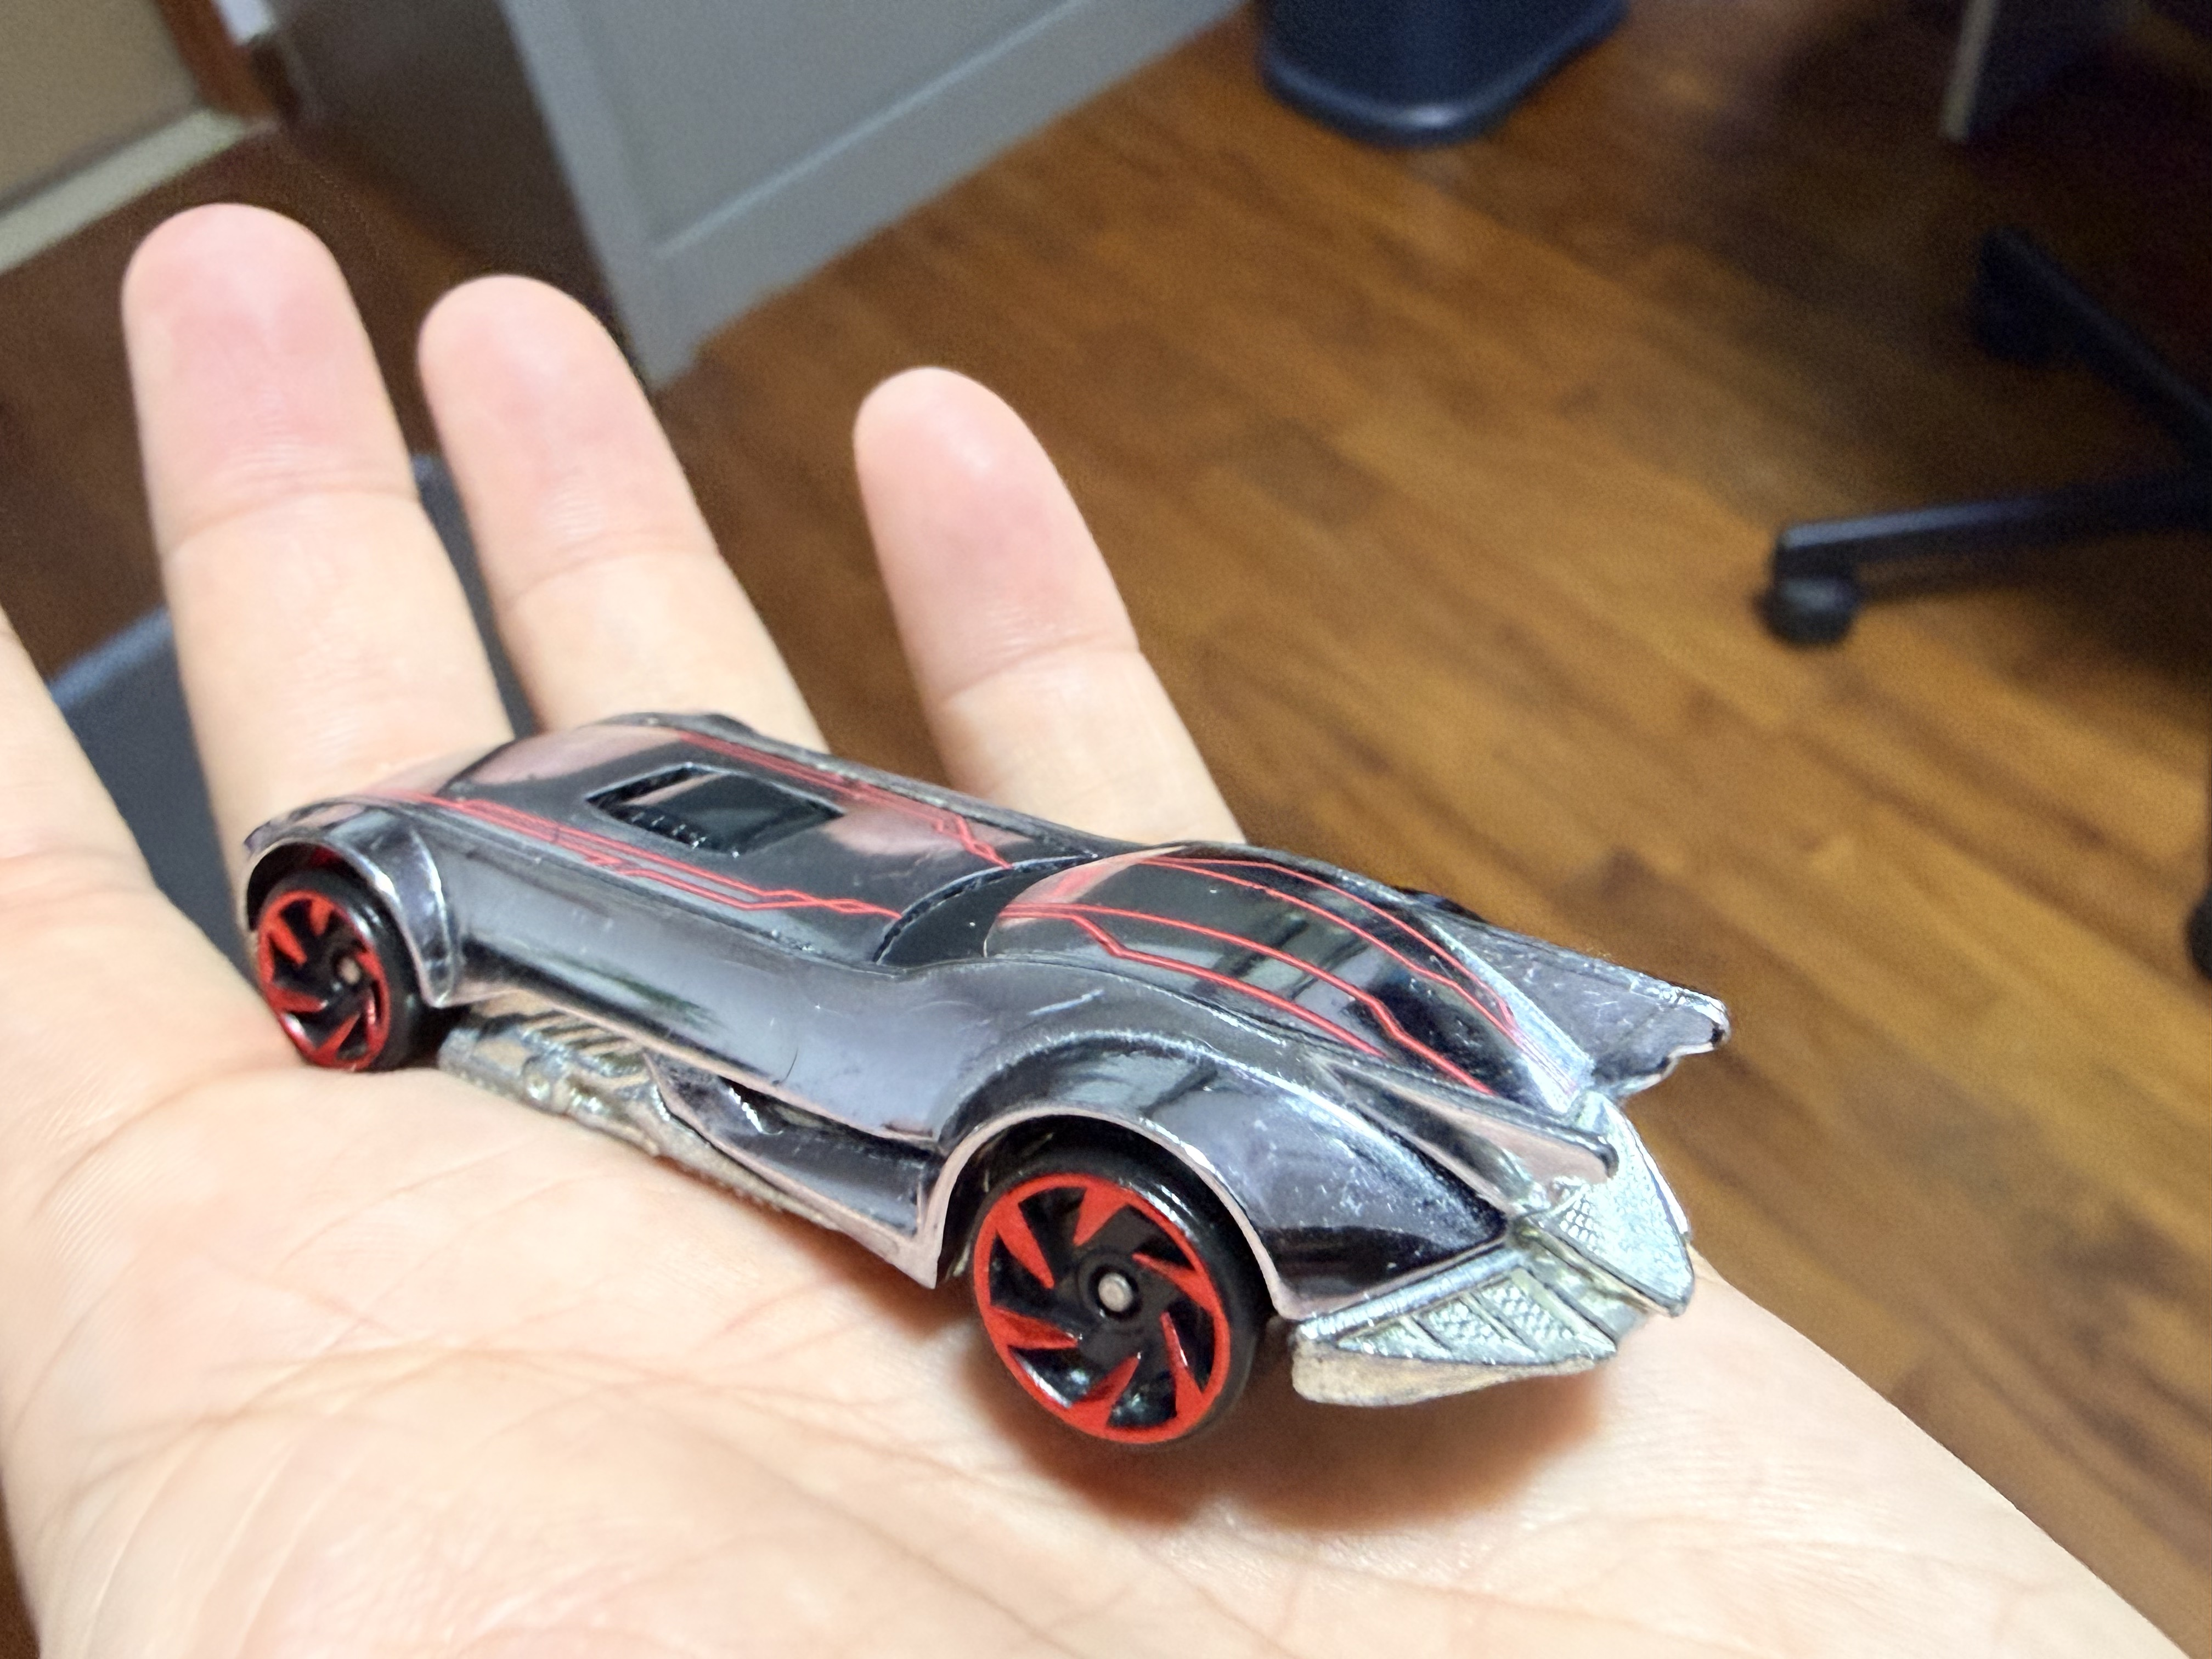dc_comics: (237, 708, 1733, 1453)
